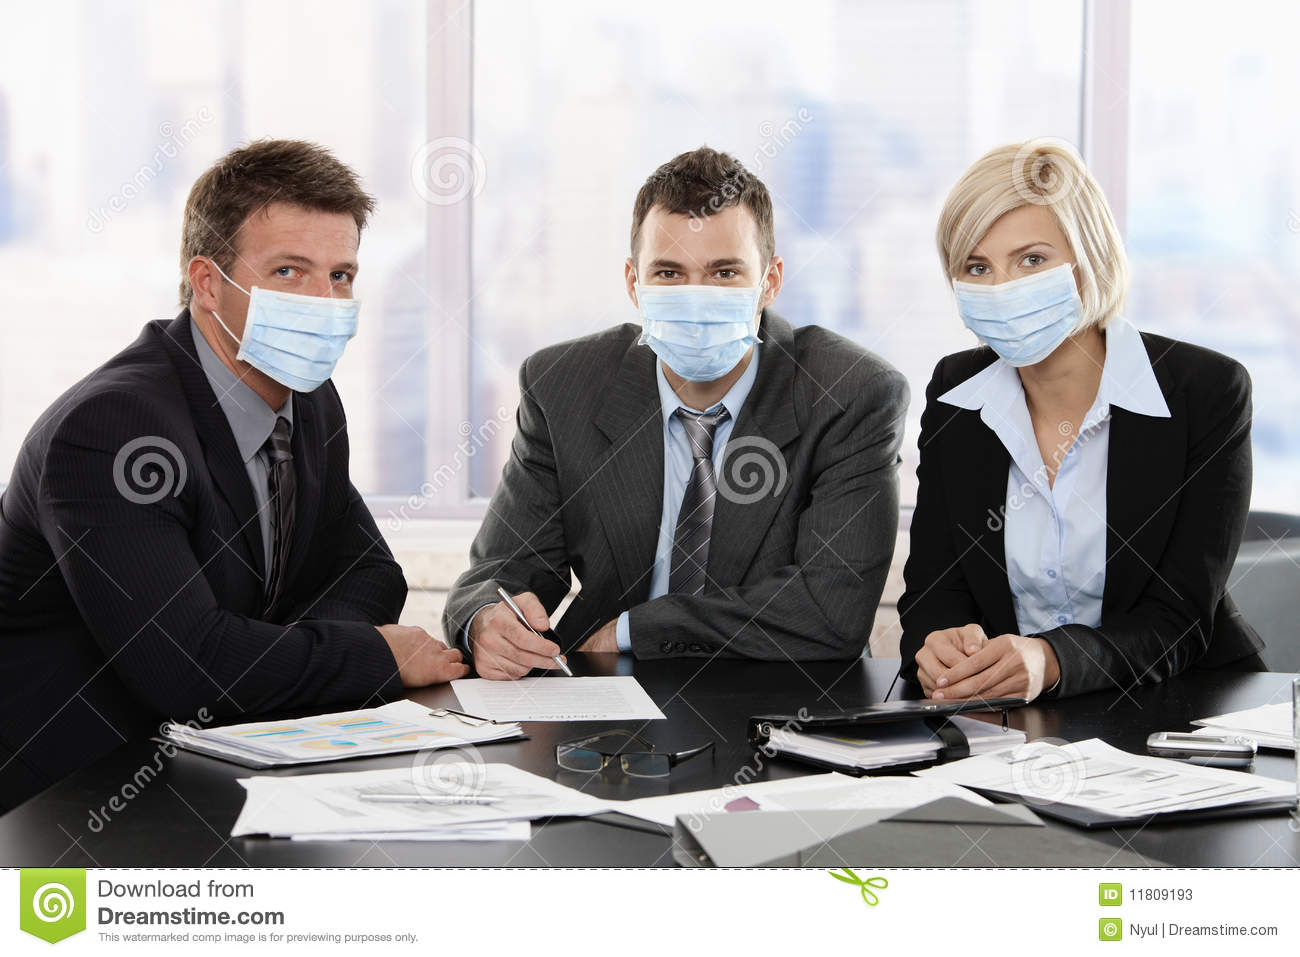mask: (948, 261, 1093, 369), (239, 285, 363, 399), (632, 289, 758, 377)
